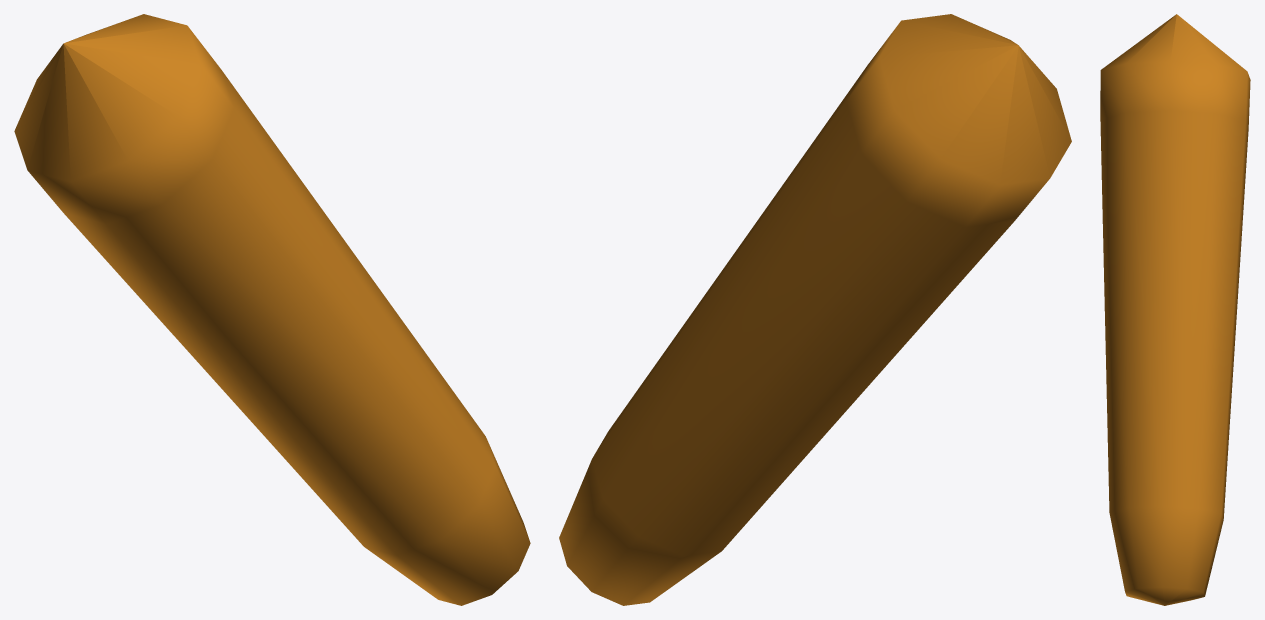
File: forearm_L.obj
The picture shows the model from 3 angles, left to right: view 1: azimuth 30°, elevation 25°; view 2: azimuth 150°, elevation 25°; view 3: azimuth 270°, elevation 25°; orthographic projection. The views are drawn at different scales.
Parts seen in each view (by area): view 1: forearm_L; view 2: forearm_L; view 3: forearm_L.
Boxes of the visible parts, x1,y1,x2,y2 form: forearm_L: [14, 14, 530, 605]; forearm_L: [559, 14, 1071, 605]; forearm_L: [1100, 14, 1250, 605].
Bounding box in the file's own units: 0.208 × 0.2637 × 0.0782.
